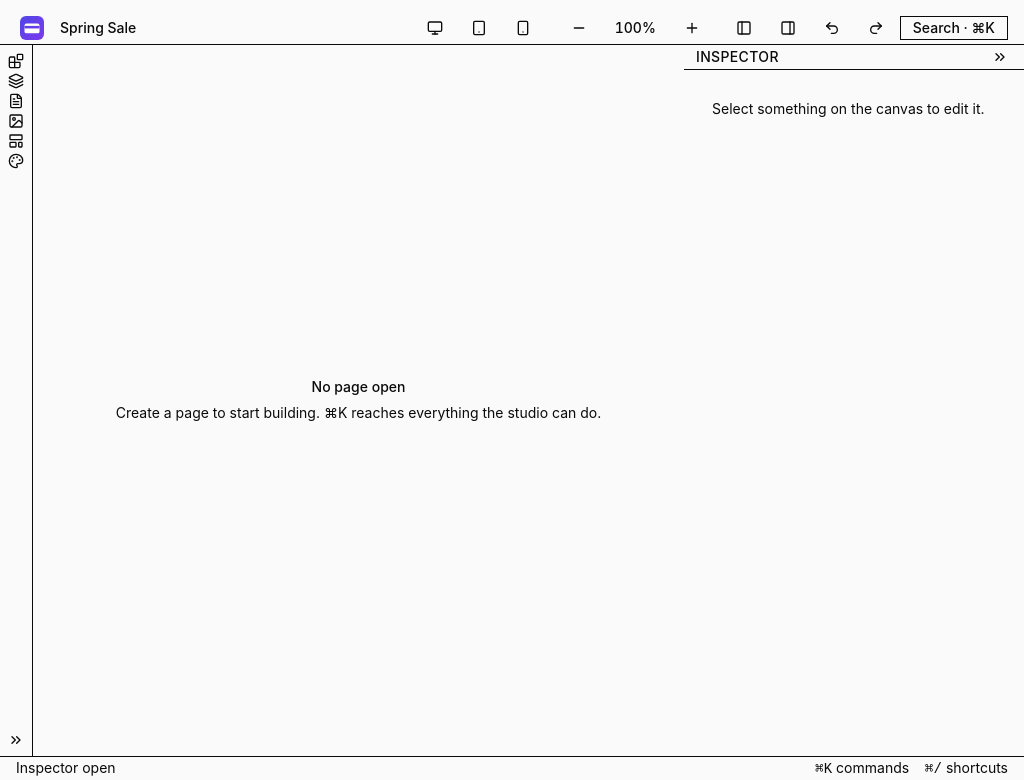
Test: StudioShell › panels › opens the sidebar when a collapsed tab is chosen
Click the tab named "Layers".
click(16, 81)  # box [8,73,24,89]
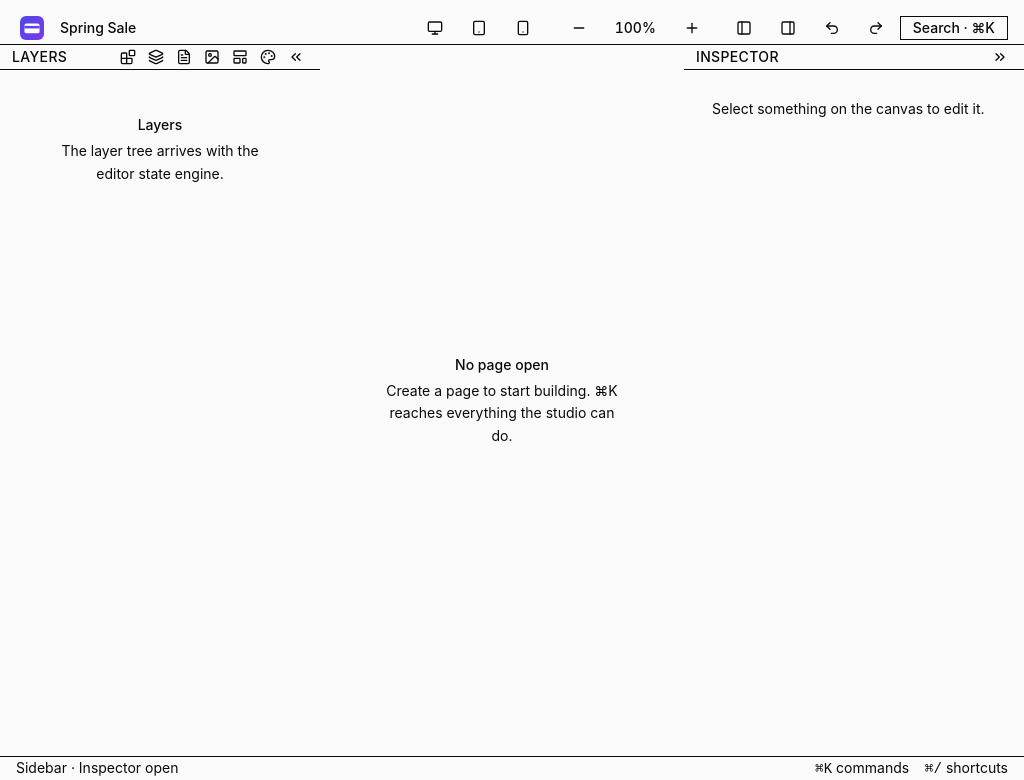
Expected: the element "Layers" is shown, [0,45,320,182]
